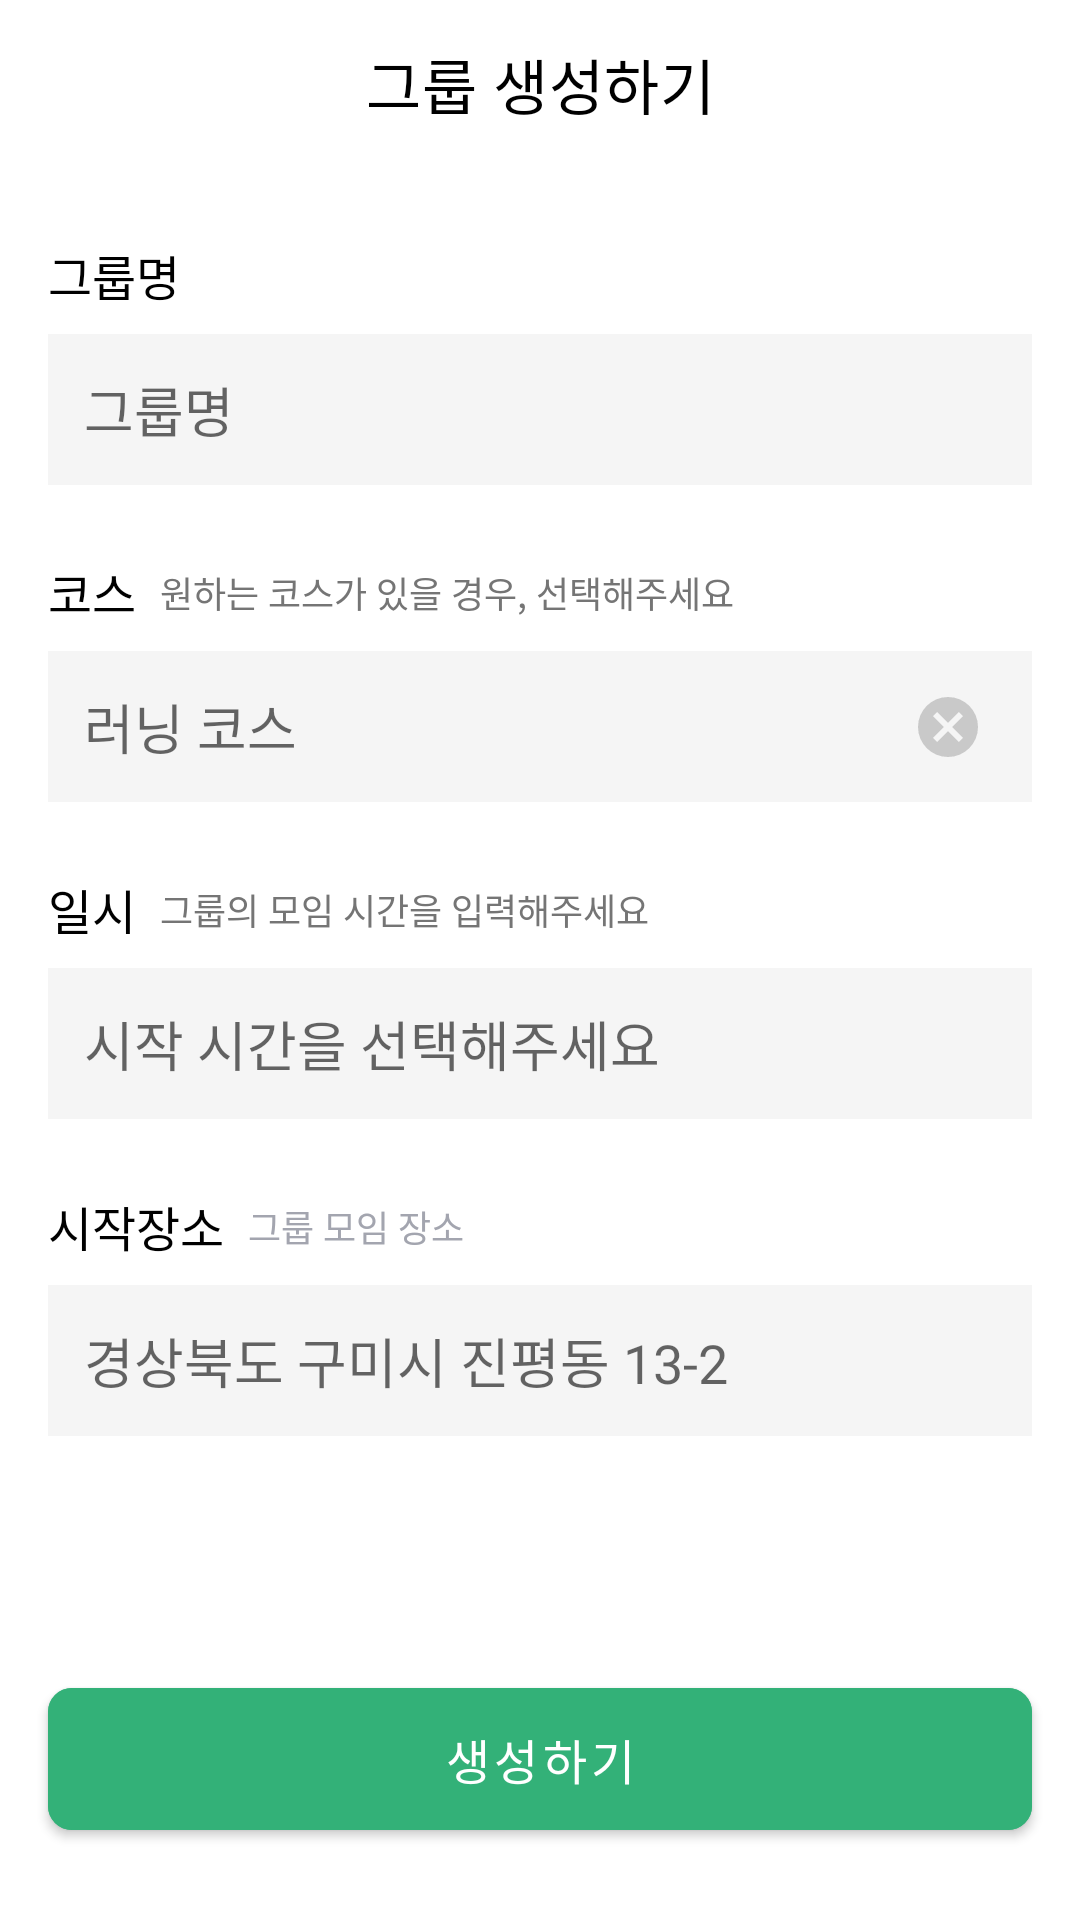

Screen size 1080*1920. Icon name, then its box in pixels as (x1, y1, x2, y2):
텍스트 지우기: (918, 697, 978, 757)
